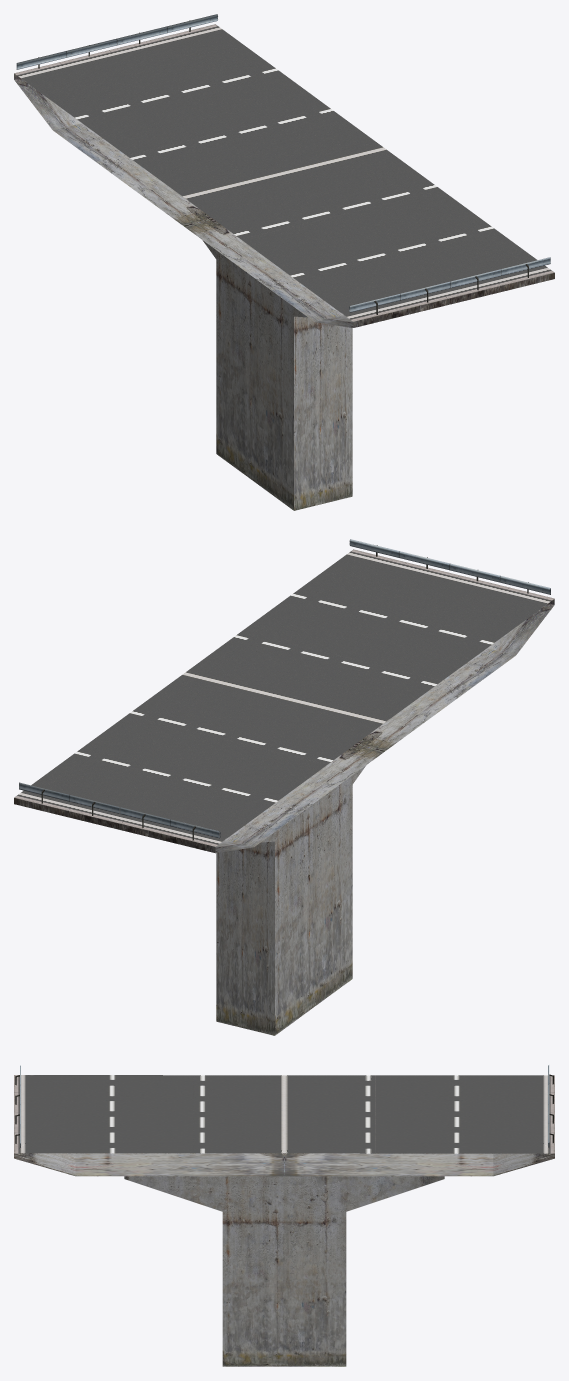
Rendered from 6 line highway with legs.FBX.
3 views of the same model, one above another, from view 1: azimuth 30°, elevation 25°; view 2: azimuth 150°, elevation 25°; view 3: azimuth 270°, elevation 25° (orthographic). The views are drawn at different scales.
Parts seen in each view (by area): view 1: Plane285; view 2: Plane285; view 3: Plane285.
Part boxes in pixels (left/top/right/bottom): Plane285: left=14, top=14, right=554, bottom=510; Plane285: left=14, top=539, right=554, bottom=1035; Plane285: left=14, top=1065, right=554, bottom=1366.
Size of the model in its own units: 12.08 by 17.99 by 35.09.
